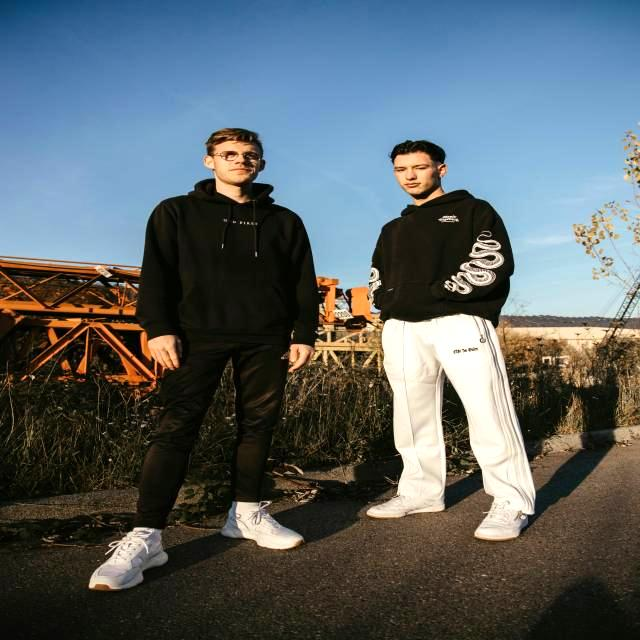no_head_wear: (388, 140, 446, 163), (205, 128, 261, 147)
person: (89, 128, 318, 590), (368, 141, 535, 540)
